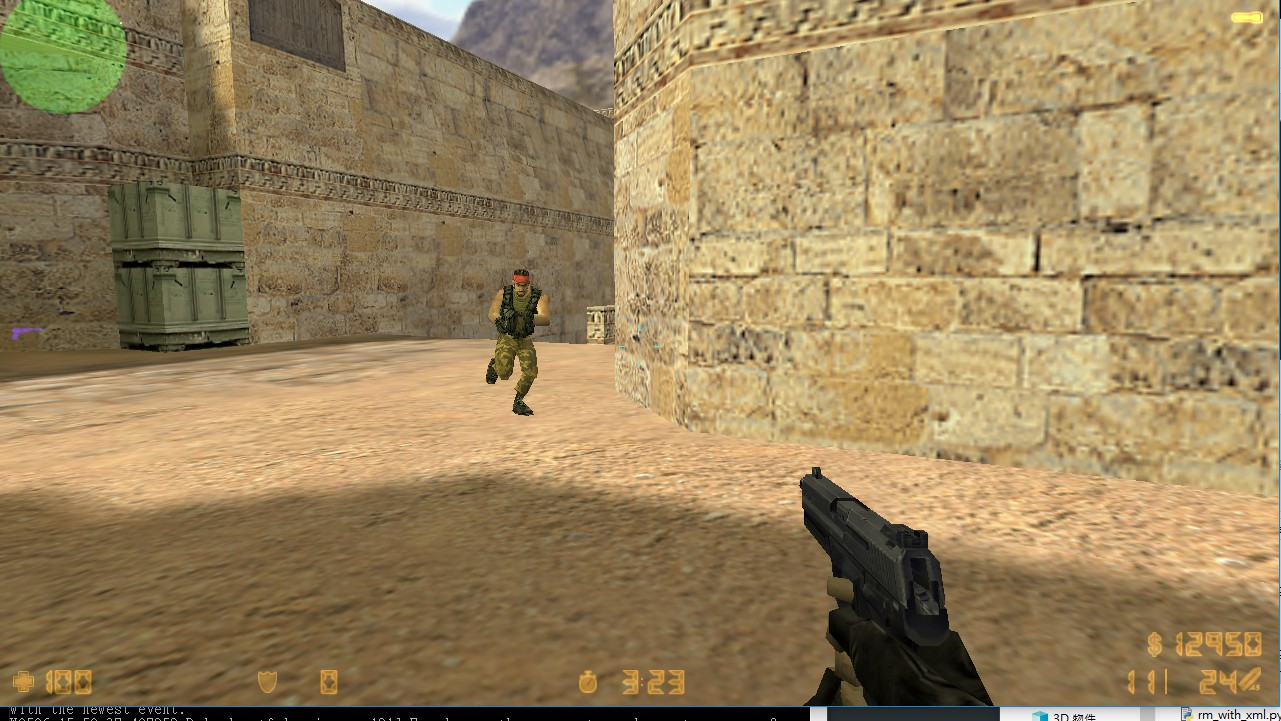person: (487, 266, 551, 423)
